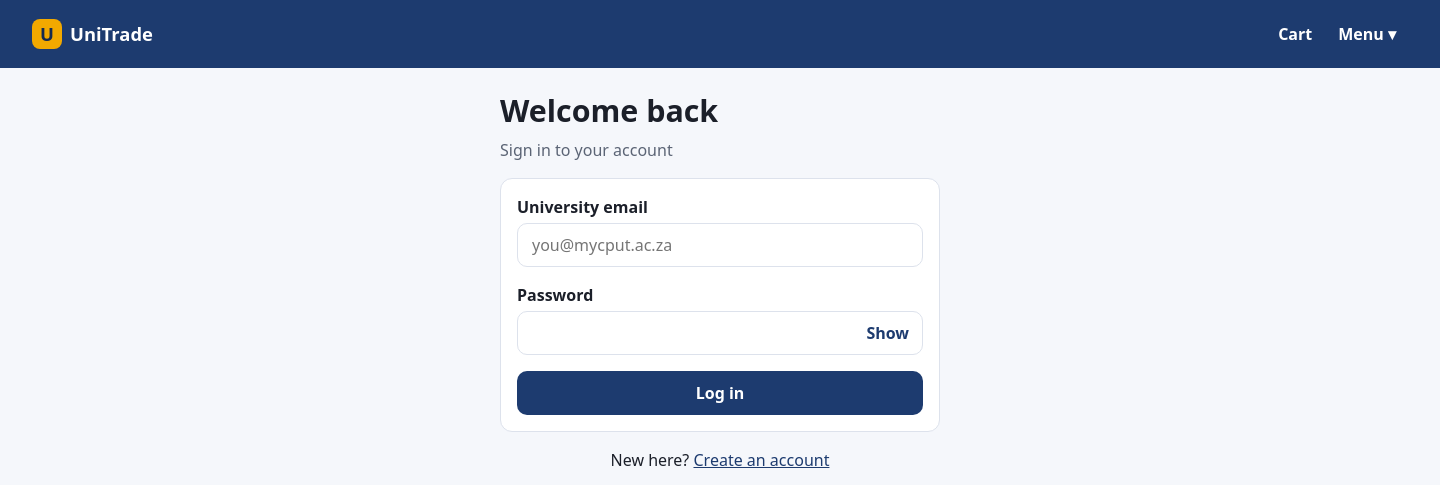
Scenario: FR1 - authentication screens › fr1_06 a protected page sends a logged-out visitor to login, then returns them after login
expect the heading "Welcome back" is shown: met, box [500, 90, 718, 131]
Type "jane@mycput.ac.za" into the field labelled "University email".
click(720, 245); type("jane@mycput.ac.za")  # box [517, 223, 923, 267]
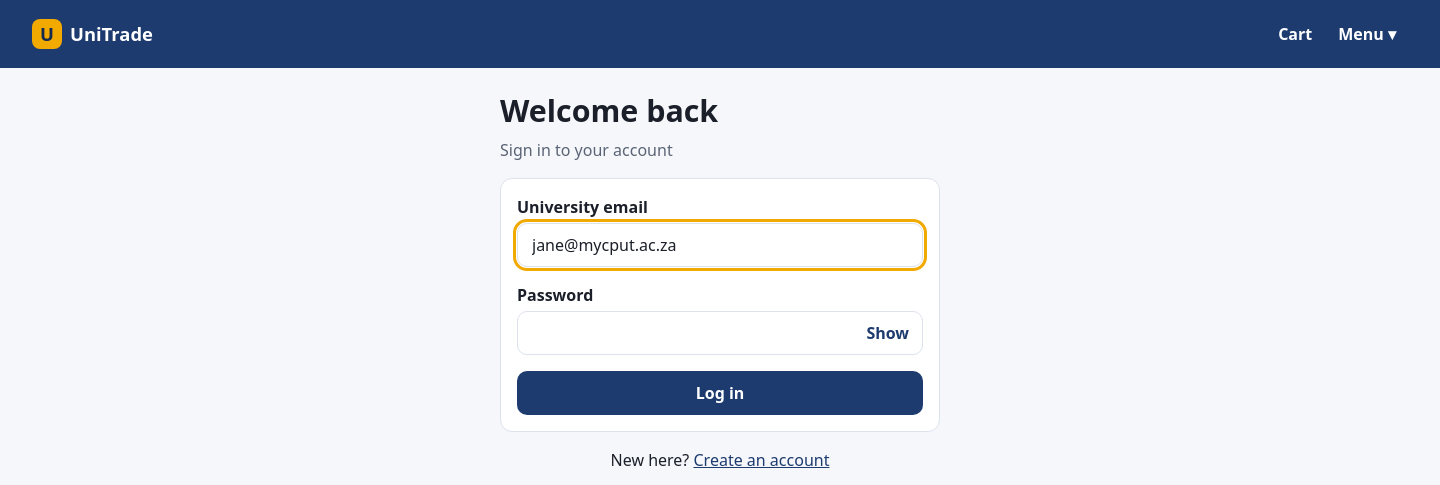
Type "Password123!" into the password field labelled "Password".
click(720, 333); type("Password123!")  # box [517, 311, 923, 355]
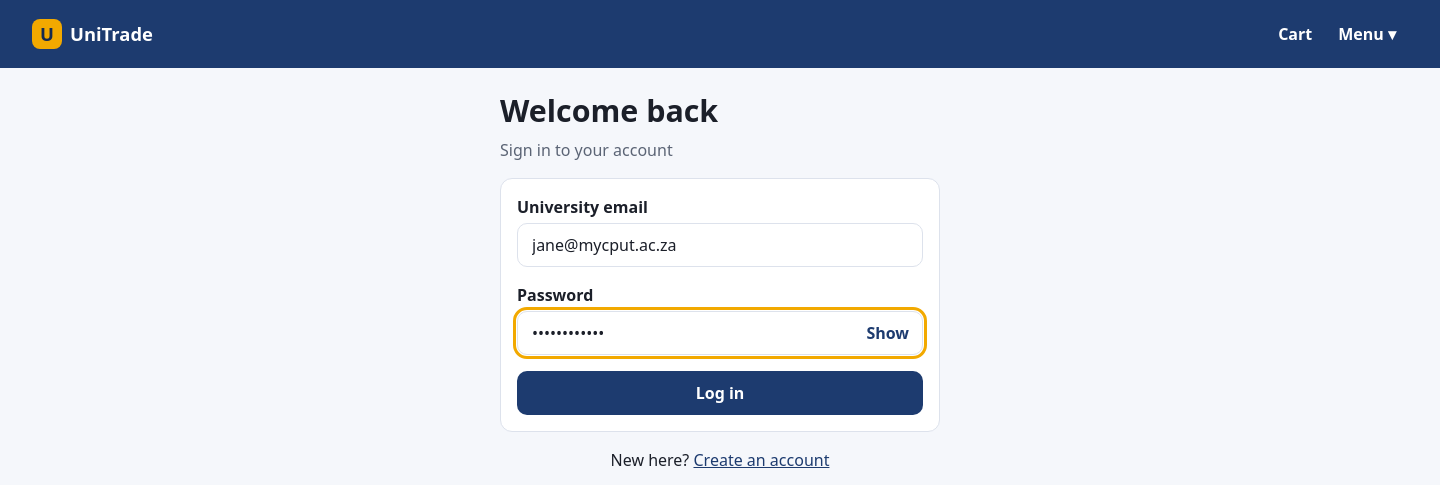
Click the button "Log in".
click(720, 393)  # box [517, 371, 923, 415]
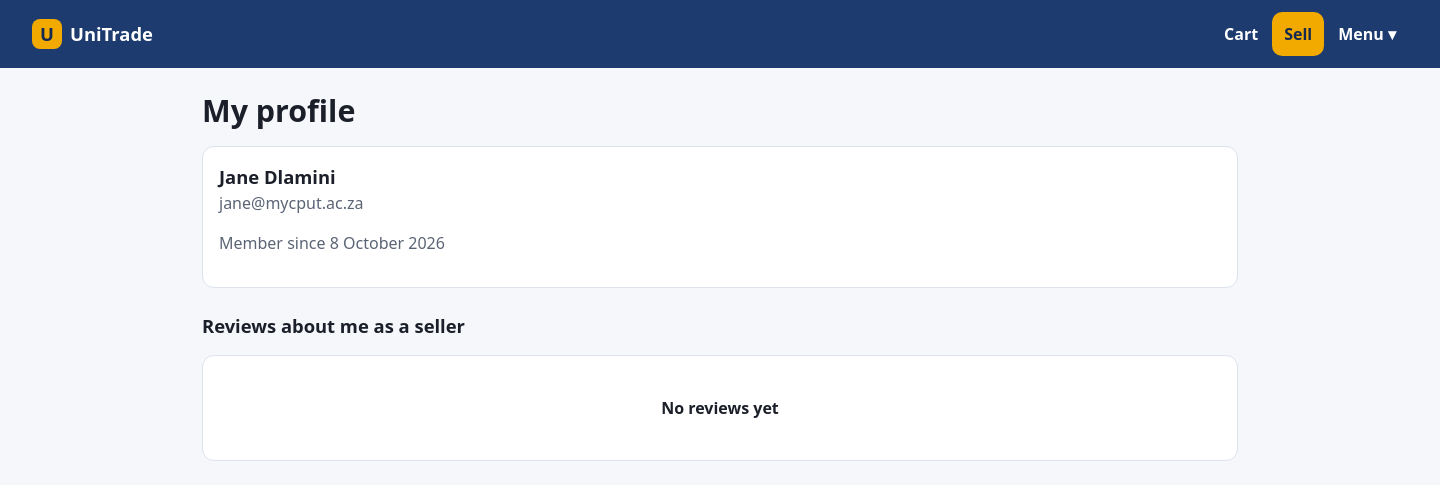
expect the heading "My profile" is shown: met, box [202, 90, 355, 131]
expect the text "jane@mycput.ac.za" is shown: met, box [219, 192, 363, 214]
